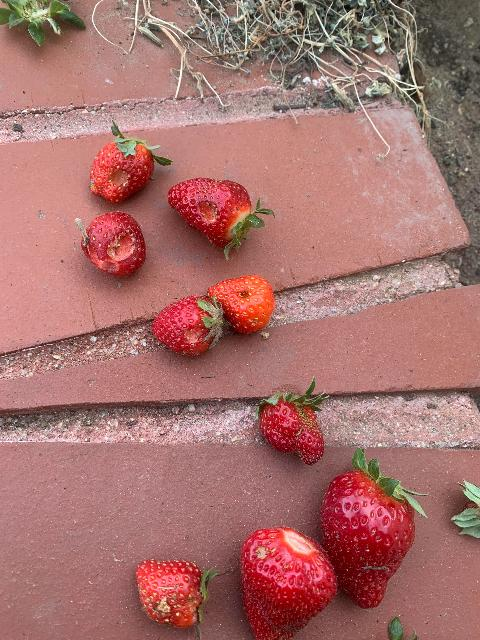Strawberries: (322, 465, 414, 607), (240, 528, 334, 640), (168, 178, 256, 252), (255, 388, 324, 464), (90, 127, 155, 205), (138, 559, 207, 625), (153, 294, 223, 356), (83, 212, 145, 276), (207, 277, 275, 333)
